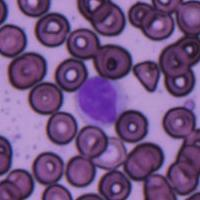L: (75, 76, 127, 127)
